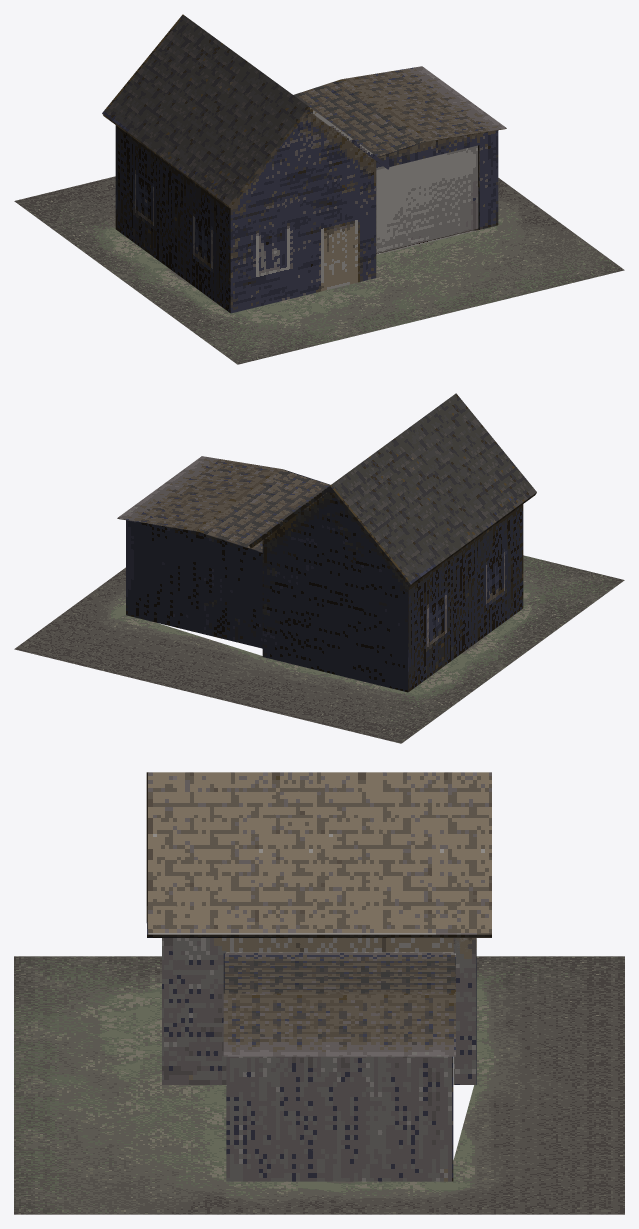
The model's file is house.glb.
The picture shows the model from 3 angles, top to bottom: view 1: azimuth 30°, elevation 25°; view 2: azimuth 150°, elevation 25°; view 3: azimuth 270°, elevation 25°; orthographic projection. The views are drawn at different scales.
Visible parts, largest first — view 1: House, Plane; view 2: House, Plane; view 3: House, Plane.
Boxes of the visible parts, x1,y1,x2,y2 form: House: [102, 14, 506, 313]; Plane: [14, 176, 624, 364]; House: [117, 393, 536, 692]; Plane: [14, 555, 624, 743]; House: [146, 772, 491, 1181]; Plane: [14, 956, 624, 1214].
Size of the model in its own units: 6.19 by 2.95 by 6.19.
2 materials, 2 textured.
